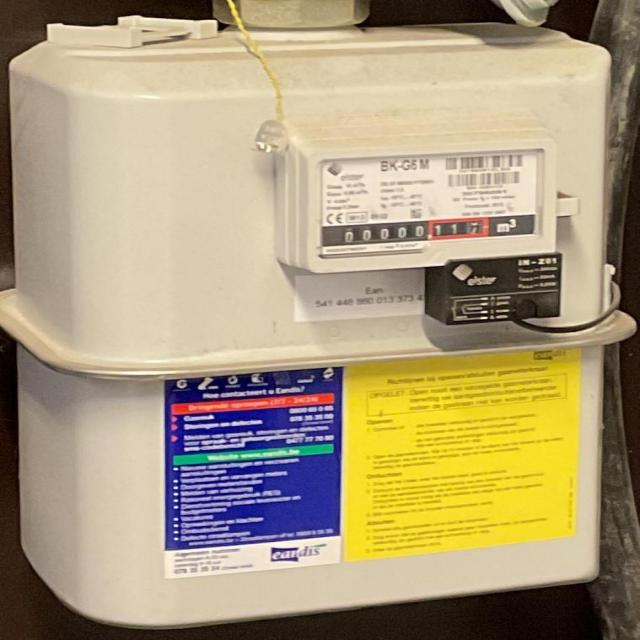gaz_meter: (320, 150, 543, 256)
indication: (333, 215, 493, 247)
